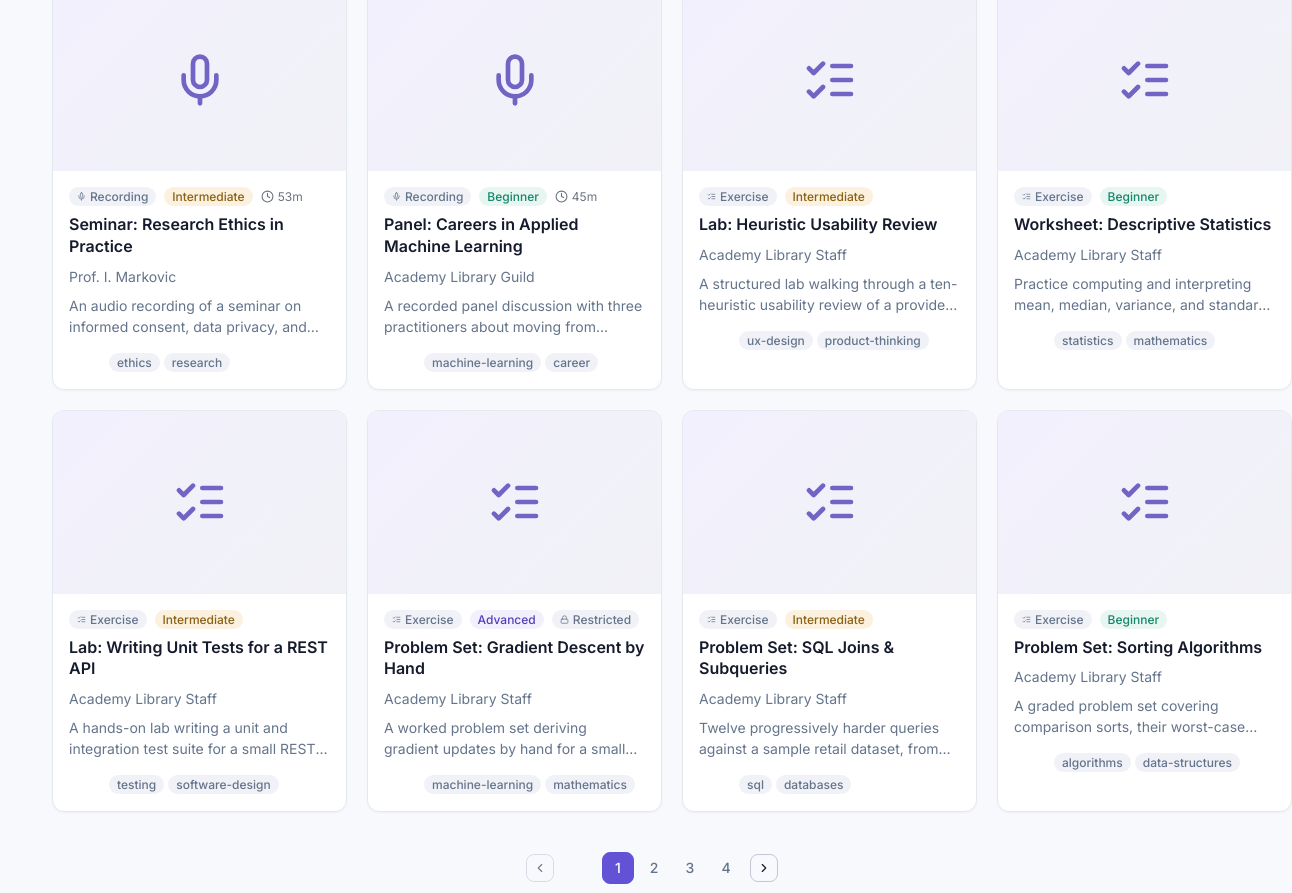
Test: LibraryPage › navigates to pages 2 of the catalogue via Pagination
(page scrolled)
Click the button named "Page 2": (654,868) [638,852,670,884]
(page scrolled)
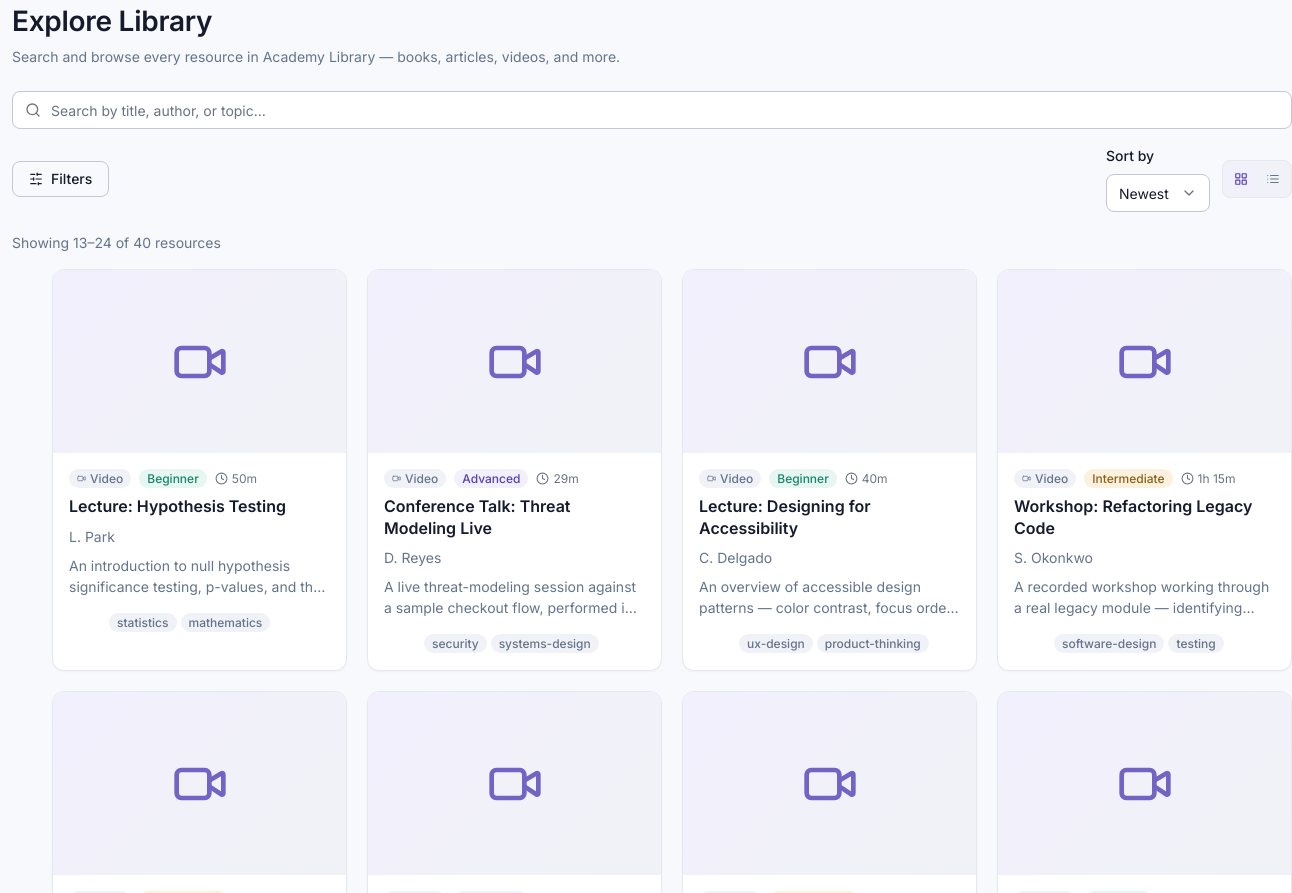
Check: the text "Showing 13–24 of 40 resources" is shown, box [12,234,221,251]
